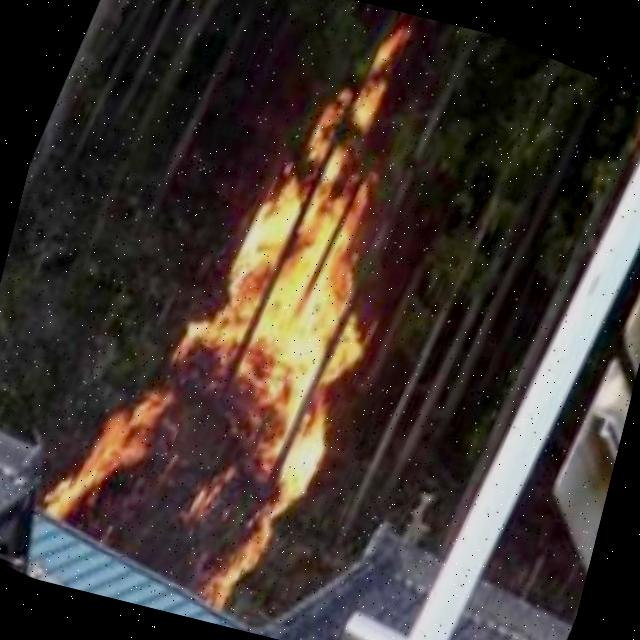fire: (18, 0, 458, 638)
